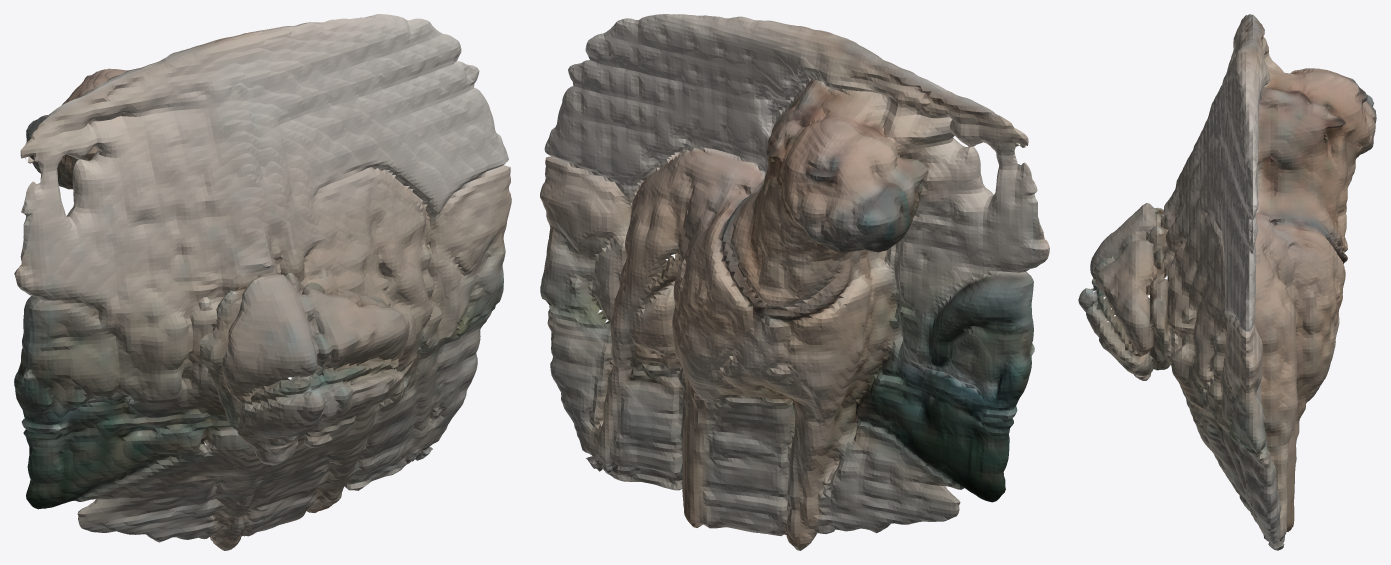
3 renders of one model, left to right at view 1: azimuth 30°, elevation 25°; view 2: azimuth 150°, elevation 25°; view 3: azimuth 270°, elevation 25°, orthographic. The views are drawn at different scales.
Visible parts, largest first — view 1: world; view 2: world; view 3: world.
Boxes of the visible parts, left/top/right/bottom form: world: left=14, top=14, right=511, bottom=550; world: left=540, top=14, right=1049, bottom=550; world: left=1078, top=14, right=1376, bottom=550.
Bounding box in the file's own units: 0.9484 × 0.9311 × 0.5728.
